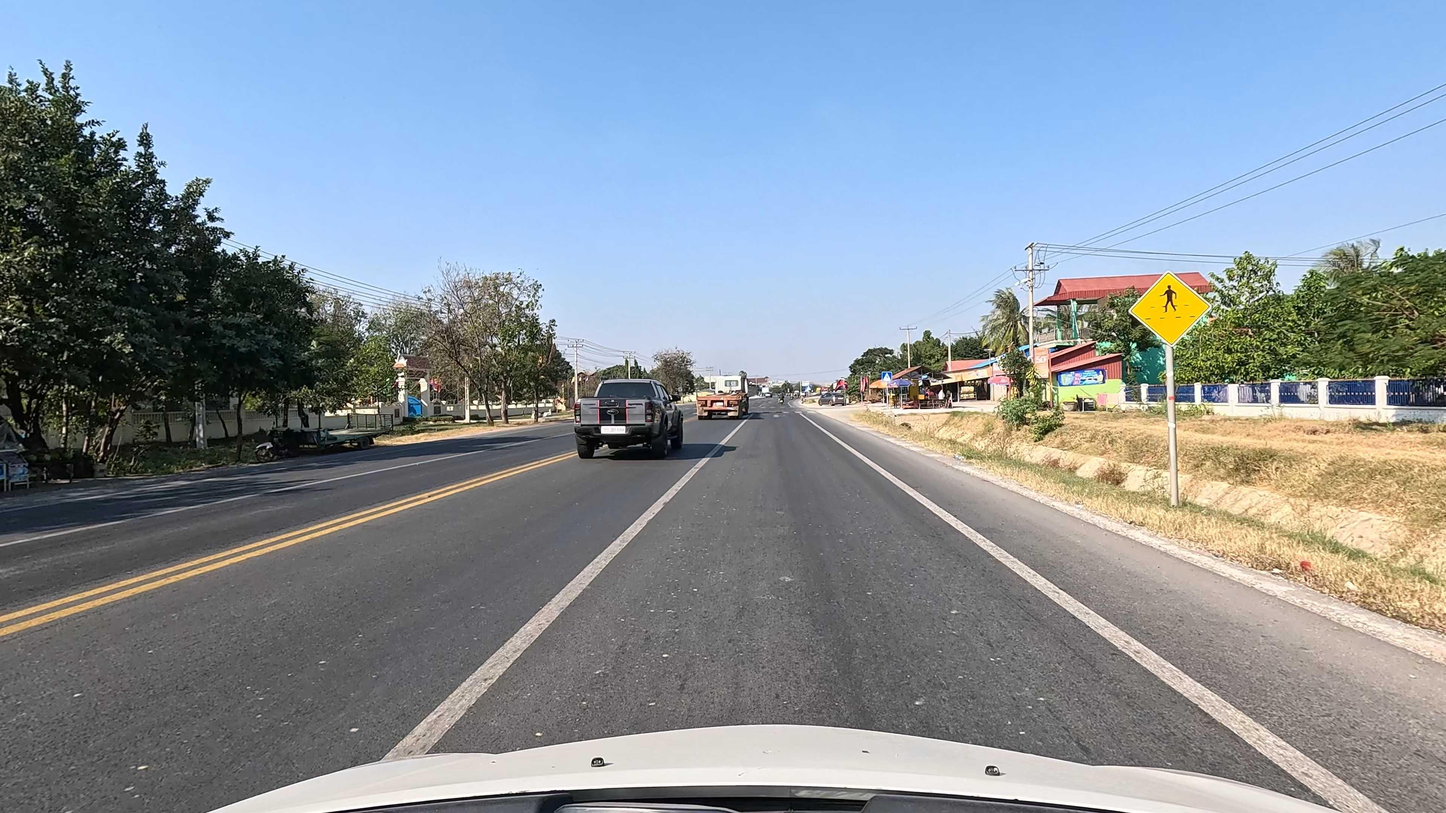pedestrian_crossing: (1126, 269, 1212, 350), (881, 371, 892, 382)
